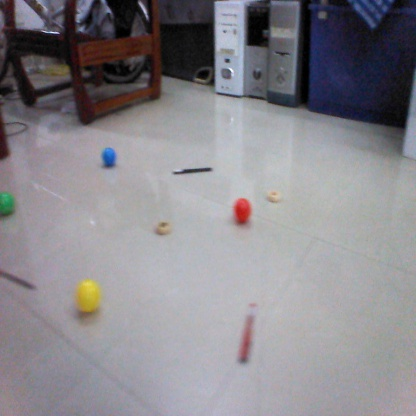ball: (74, 277, 99, 311), (230, 198, 253, 225), (97, 148, 122, 167), (1, 190, 18, 215)
chess: (267, 188, 284, 204), (153, 220, 172, 233)
pen: (235, 302, 258, 365), (1, 268, 36, 289), (173, 164, 213, 175)
